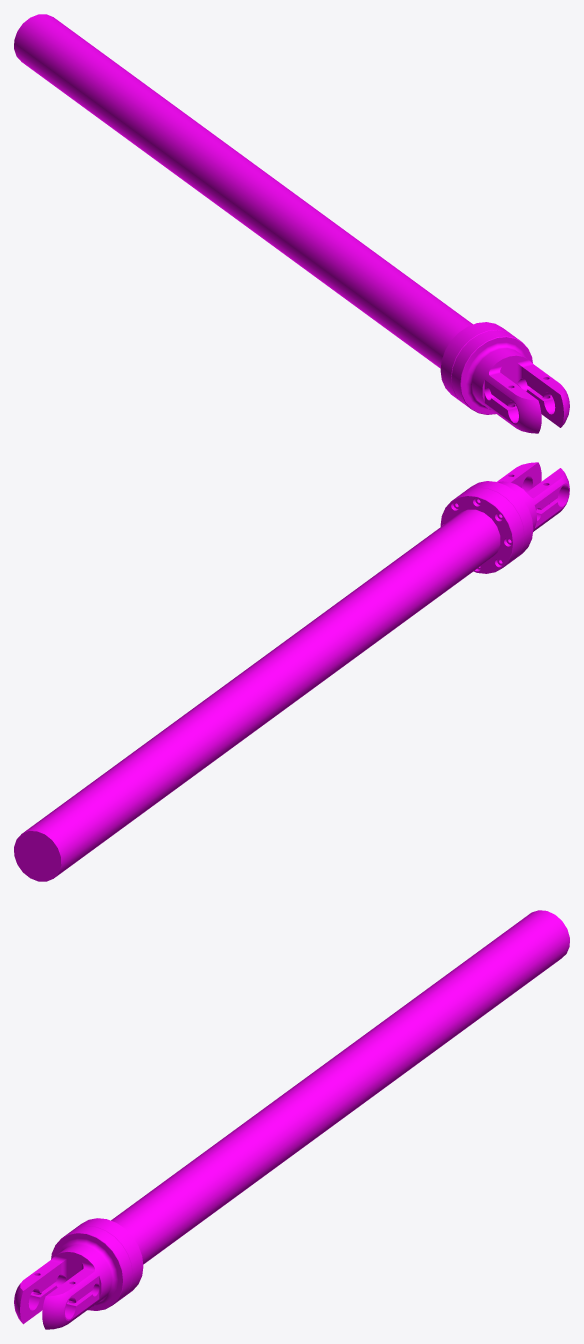
Rendered from Stewart_Piston.obj.
The picture shows the model from 3 angles, top to bottom: view 1: azimuth 30°, elevation 25°; view 2: azimuth 150°, elevation 25°; view 3: azimuth 330°, elevation 25°; orthographic projection.
Visible parts, largest first — view 1: 1200_derived_Rod.stp_Default_sldprt; view 2: 1200_derived_Rod.stp_Default_sldprt; view 3: 1200_derived_Rod.stp_Default_sldprt.
Part boxes in pixels (x1,y1,x2,y2): 1200_derived_Rod.stp_Default_sldprt: (14,14,569,433); 1200_derived_Rod.stp_Default_sldprt: (14,462,569,881); 1200_derived_Rod.stp_Default_sldprt: (14,910,569,1329).
Size of the model in its own units: 0.092 by 0.092 by 1.12.
